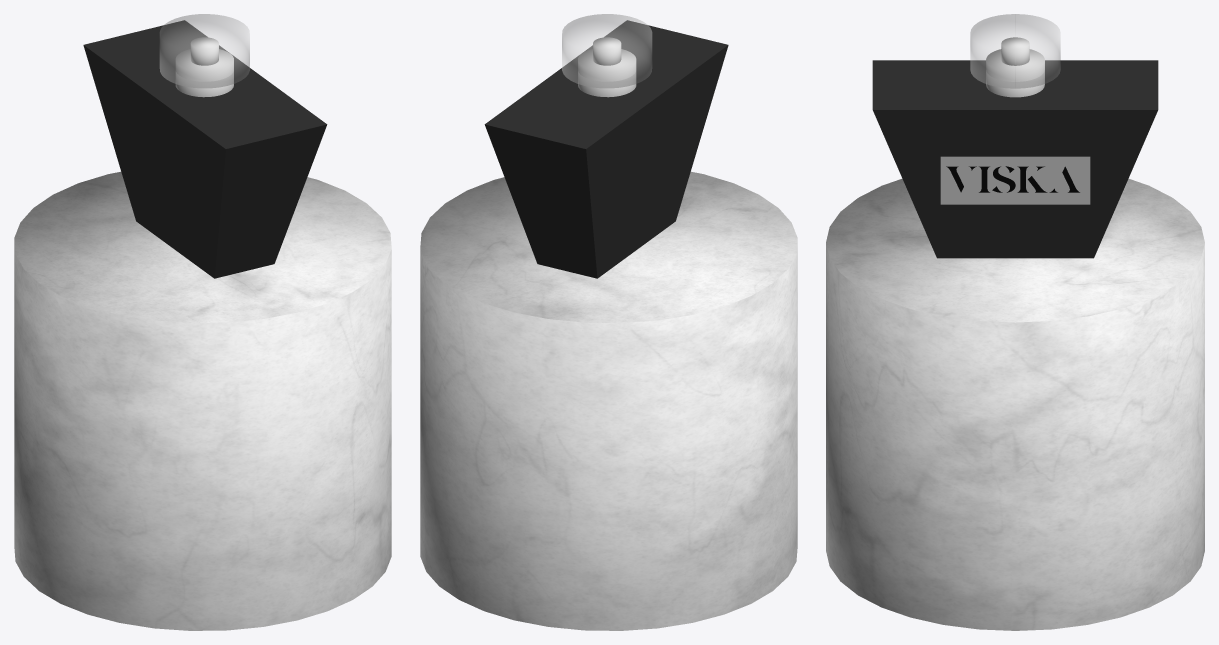
File: perfume_full.glb
3 views of the same model, side by side, from view 1: azimuth 30°, elevation 25°; view 2: azimuth 150°, elevation 25°; view 3: azimuth 270°, elevation 25° (orthographic).
Parts seen in each view (by area): view 1: Cylinder.003, Cube, Cylinder.002, Cylinder, Cylinder.001; view 2: Cylinder.003, Cube, Cylinder.002, Cylinder, Cylinder.001; view 3: Cylinder.003, Cube, Plane, Cylinder.002, Cylinder, Text, Cylinder.001.
Part boxes in pixels (<box>): Cylinder.003: <box>14,171,391,630</box>; Cube: <box>83,20,327,278</box>; Cylinder.002: <box>160,14,249,87</box>; Cylinder: <box>175,49,233,97</box>; Cylinder.001: <box>190,37,218,65</box>; Cylinder.003: <box>420,171,797,630</box>; Cube: <box>484,20,728,278</box>; Cylinder.002: <box>562,14,651,87</box>; Cylinder: <box>578,49,636,97</box>; Cylinder.001: <box>593,37,621,65</box>; Cylinder.003: <box>826,178,1204,630</box>; Cube: <box>872,60,1158,258</box>; Plane: <box>940,156,1090,204</box>; Cylinder.002: <box>970,14,1060,88</box>; Cylinder: <box>986,49,1044,97</box>; Text: <box>946,166,1079,192</box>; Cylinder.001: <box>1001,37,1029,65</box>.
Size of the model in its own units: 4.32 by 6.53 by 4.32.
Materials: 6 (1 with a texture image).
